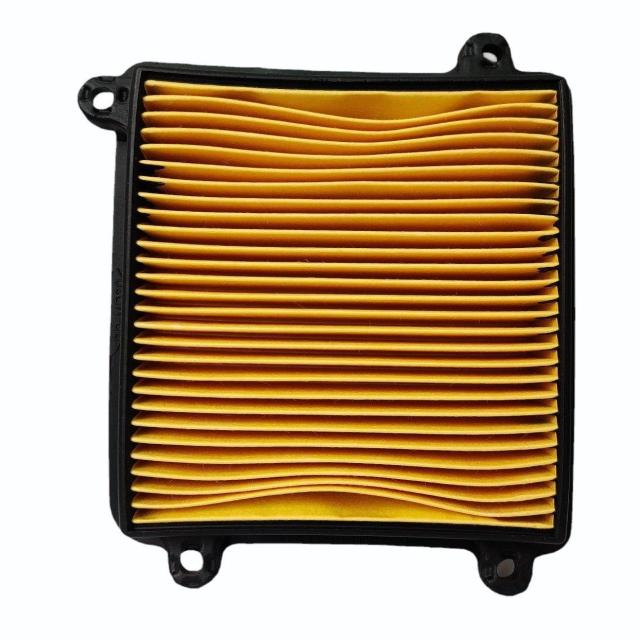air_filter: (70, 40, 592, 612)
